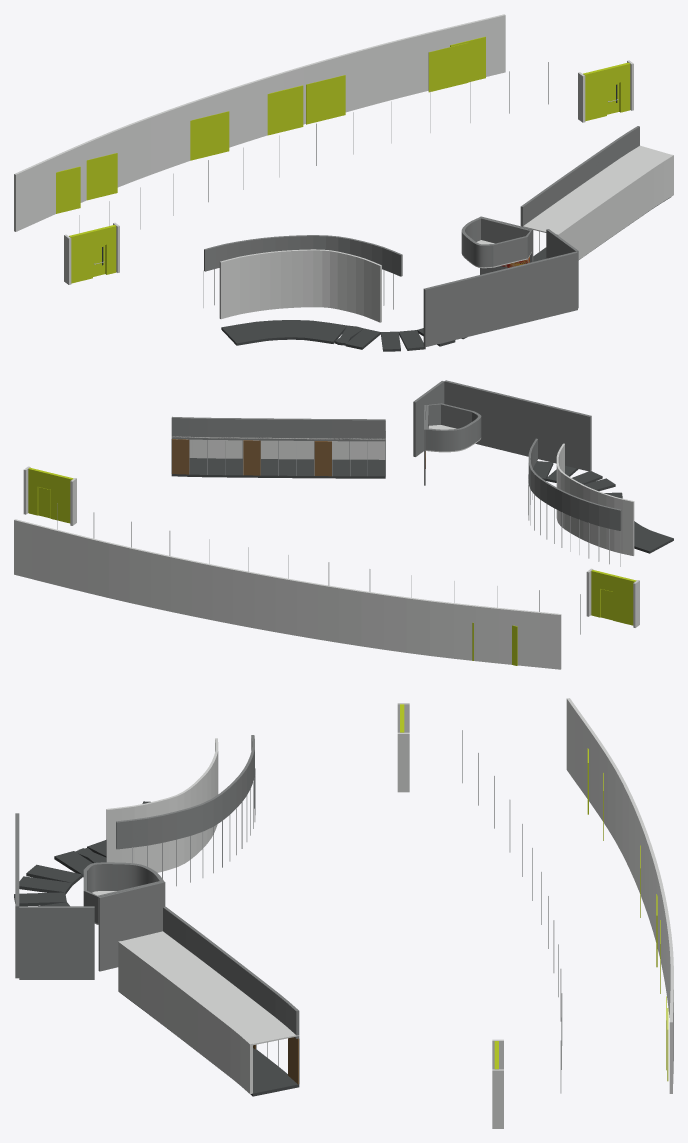
Rendered from SM_L2_Rooms_Solid_eaefef6fb6_0.fbx.
3 views of the same model, one above another, from view 1: azimuth 30°, elevation 25°; view 2: azimuth 150°, elevation 25°; view 3: azimuth 270°, elevation 25° (orthographic). The views are drawn at different scales.
Parts seen in each view (by area): view 1: SM_L2_Rooms_Solid_eaefef6fb6_0; view 2: SM_L2_Rooms_Solid_eaefef6fb6_0; view 3: SM_L2_Rooms_Solid_eaefef6fb6_0.
Boxes of the visible parts, left/top/right/bottom form: SM_L2_Rooms_Solid_eaefef6fb6_0: left=14, top=14, right=673, bottom=351; SM_L2_Rooms_Solid_eaefef6fb6_0: left=14, top=380, right=673, bottom=669; SM_L2_Rooms_Solid_eaefef6fb6_0: left=14, top=698, right=673, bottom=1128.
Bounding box in the file's own units: 47.42 × 35.96 × 4.6.
